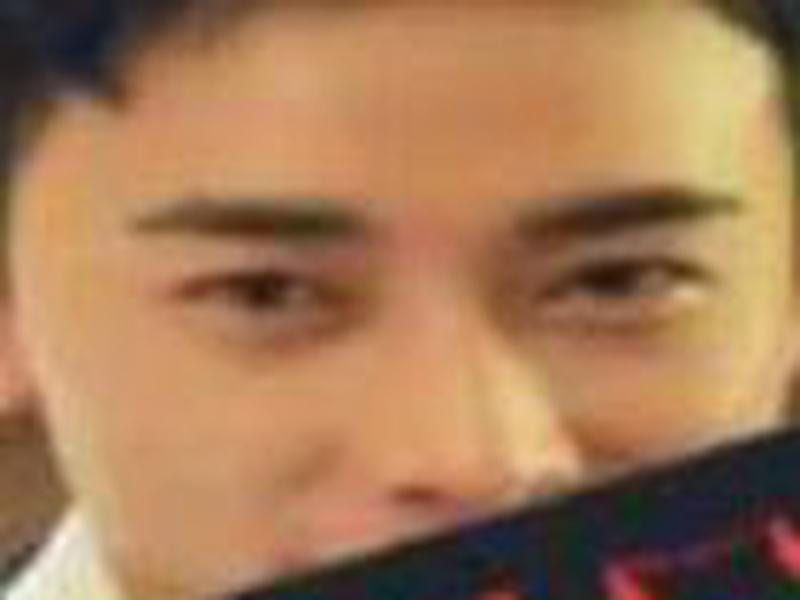without_mask: (23, 23, 800, 584)
